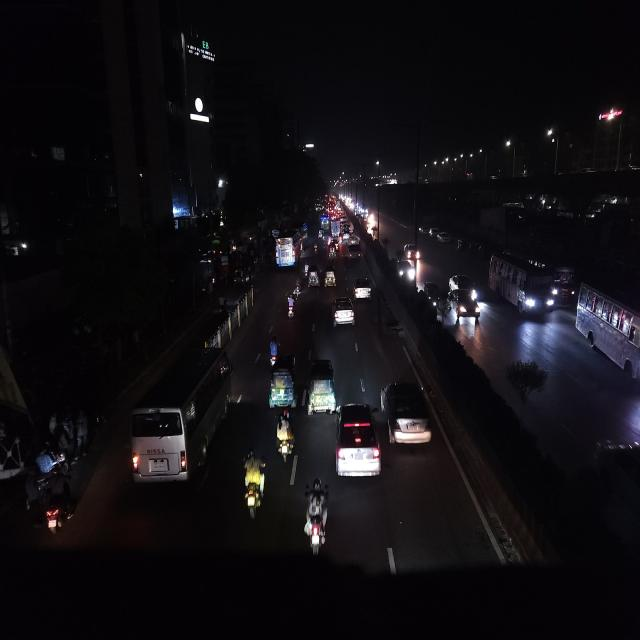bus: (125, 340, 233, 494), (574, 276, 640, 384), (487, 250, 559, 322), (272, 223, 307, 270), (320, 211, 330, 227)
car: (380, 374, 435, 454), (334, 400, 382, 488), (449, 272, 481, 317), (331, 293, 355, 330), (393, 254, 415, 289), (352, 272, 373, 302), (404, 242, 419, 261), (428, 227, 442, 242), (328, 239, 339, 257), (436, 230, 448, 244)
cng: (306, 356, 338, 418), (268, 353, 298, 412), (307, 260, 319, 288), (324, 264, 336, 289), (319, 223, 329, 238), (342, 224, 352, 238)
motorcycle: (301, 477, 333, 561), (40, 469, 76, 536), (240, 448, 268, 522), (273, 410, 298, 464), (266, 333, 280, 368), (285, 290, 298, 321), (294, 278, 302, 297), (312, 240, 320, 256)
pickup_van: (346, 240, 362, 262)
truck: (330, 219, 340, 237)
